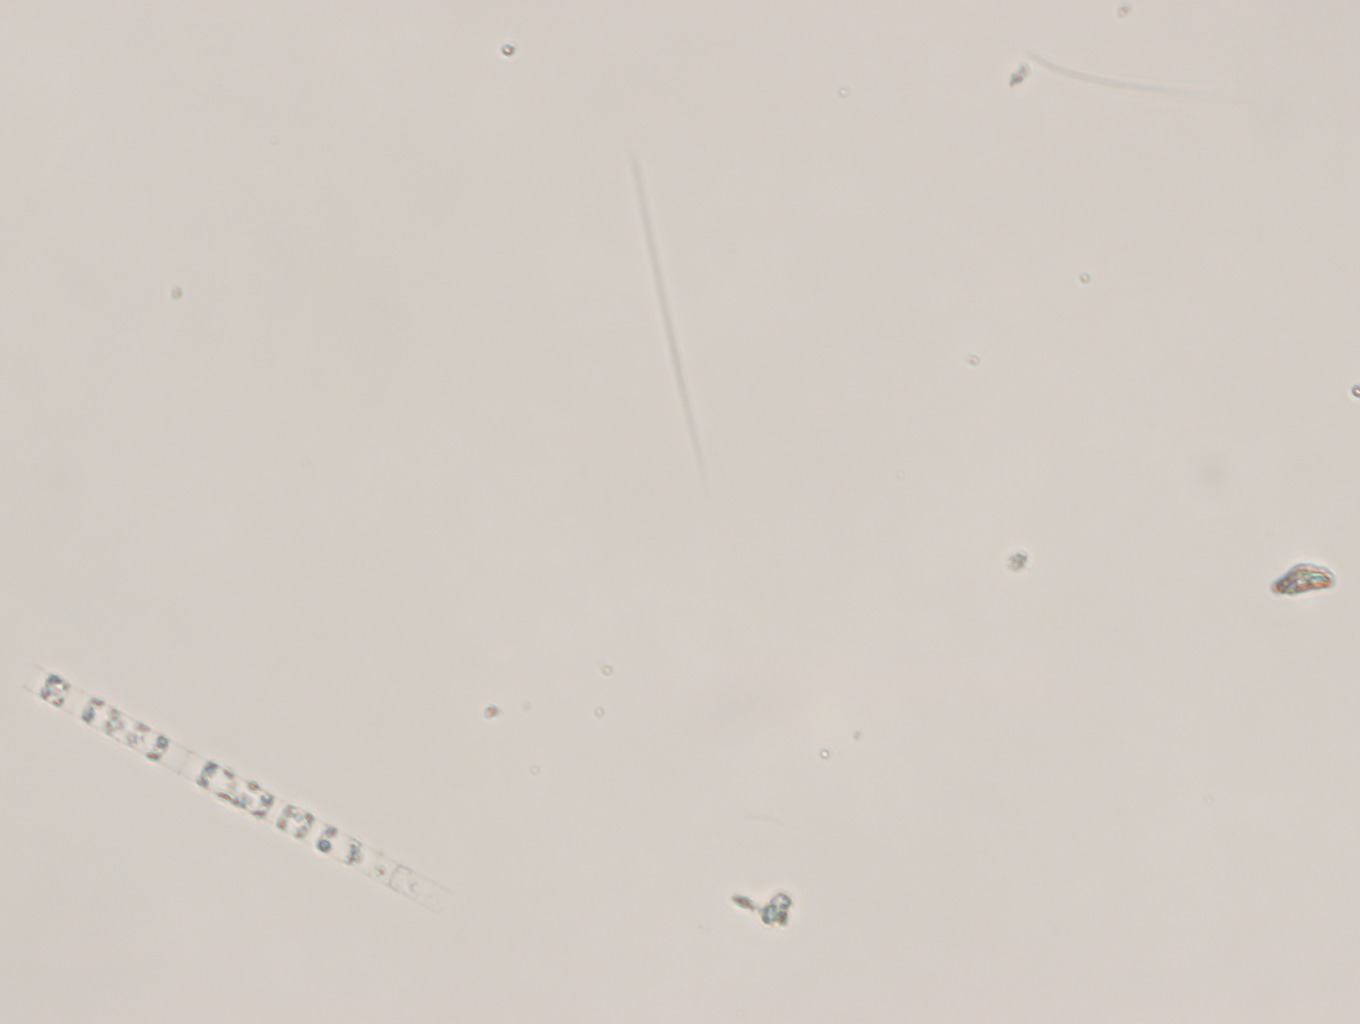skeletonema: (20, 664, 433, 923)
